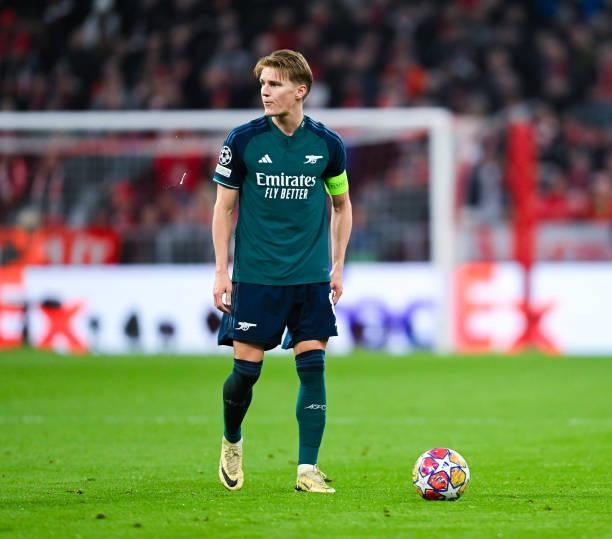Spitting: (235, 46, 322, 119)
